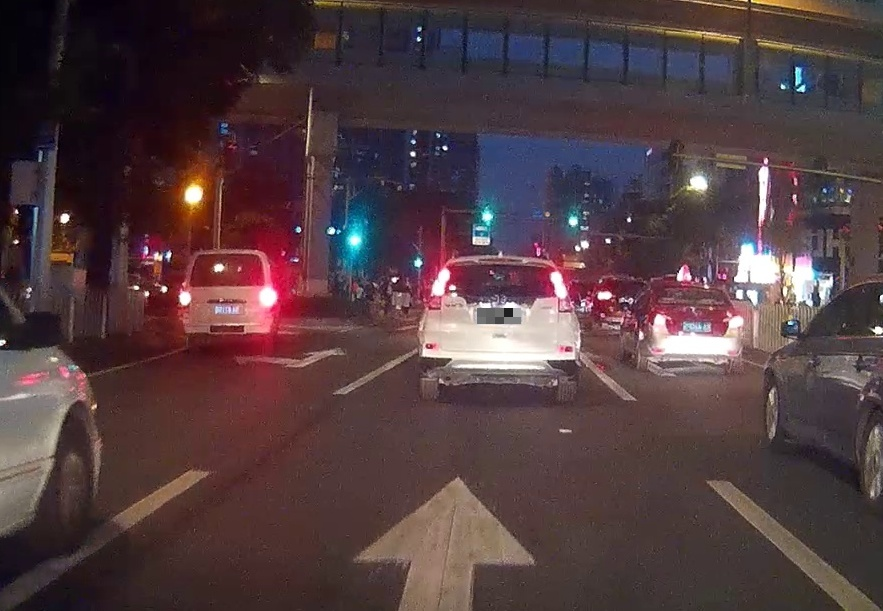L_light: (427, 268, 450, 310), (181, 290, 191, 311), (652, 313, 667, 325)
R_light: (549, 270, 574, 313), (260, 287, 274, 313), (728, 316, 744, 328)
T_light: (491, 264, 510, 271), (686, 287, 701, 293), (220, 254, 235, 259)
night-no: (418, 255, 580, 402), (653, 281, 744, 372)
night-right: (181, 250, 275, 352)
plate_1: (477, 308, 521, 324)
